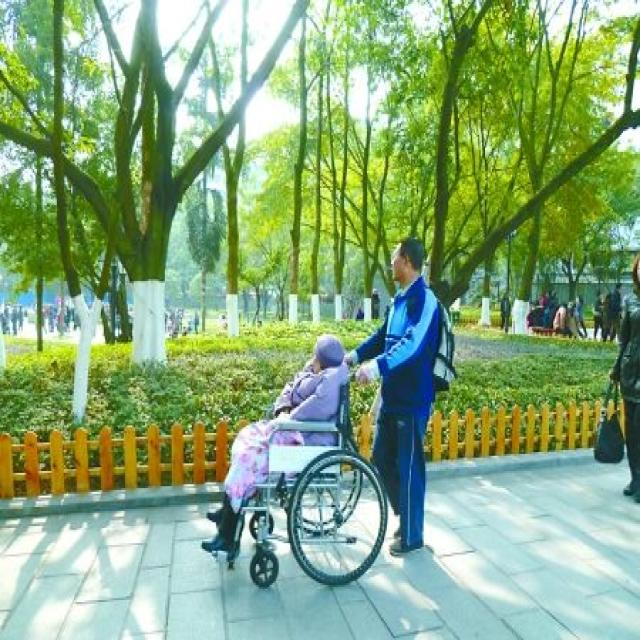wheelchairs: (208, 382, 392, 595)
